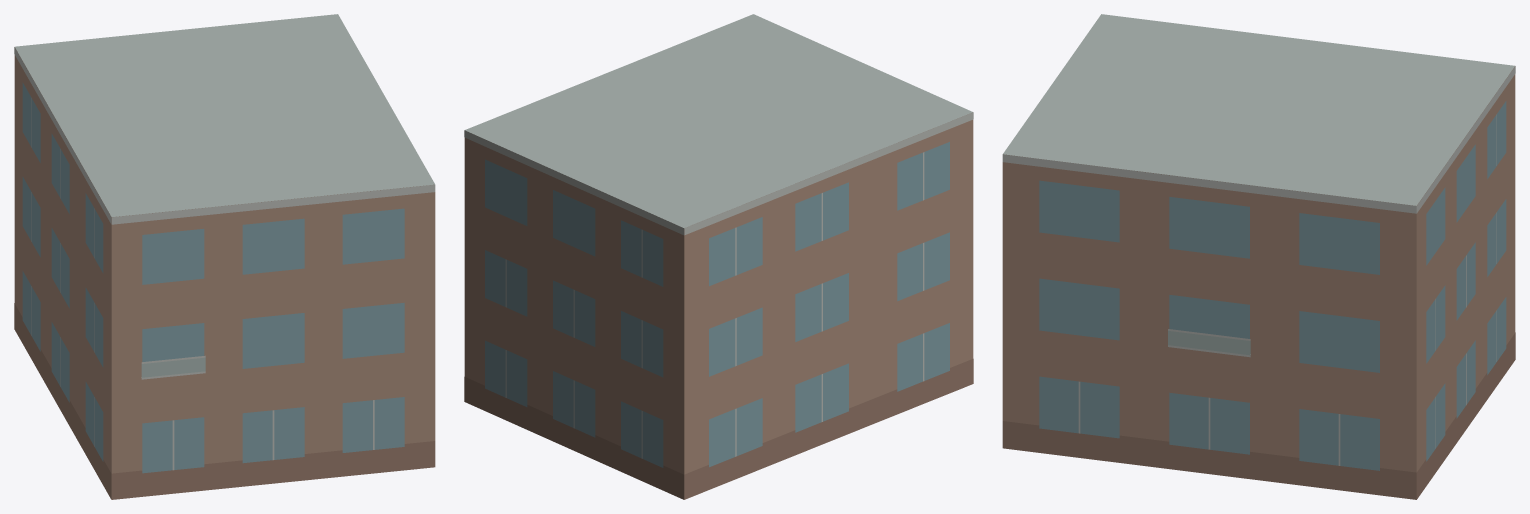
The model's file is survey-upis-33045641.glb.
The picture shows the model from 3 angles, left to right: view 1: azimuth 30°, elevation 25°; view 2: azimuth 150°, elevation 25°; view 3: azimuth 270°, elevation 25°; orthographic projection. The views are drawn at different scales.
Parts seen in each view (by area): view 1: survey-upis-33045641.tmp; view 2: survey-upis-33045641.tmp; view 3: survey-upis-33045641.tmp.
Boxes of the visible parts, bbox=[...] form: survey-upis-33045641.tmp: bbox=[14, 14, 435, 499]; survey-upis-33045641.tmp: bbox=[464, 14, 973, 499]; survey-upis-33045641.tmp: bbox=[1002, 14, 1515, 499].
Bounding box in the file's own units: 12.82 × 9.15 × 14.47.
